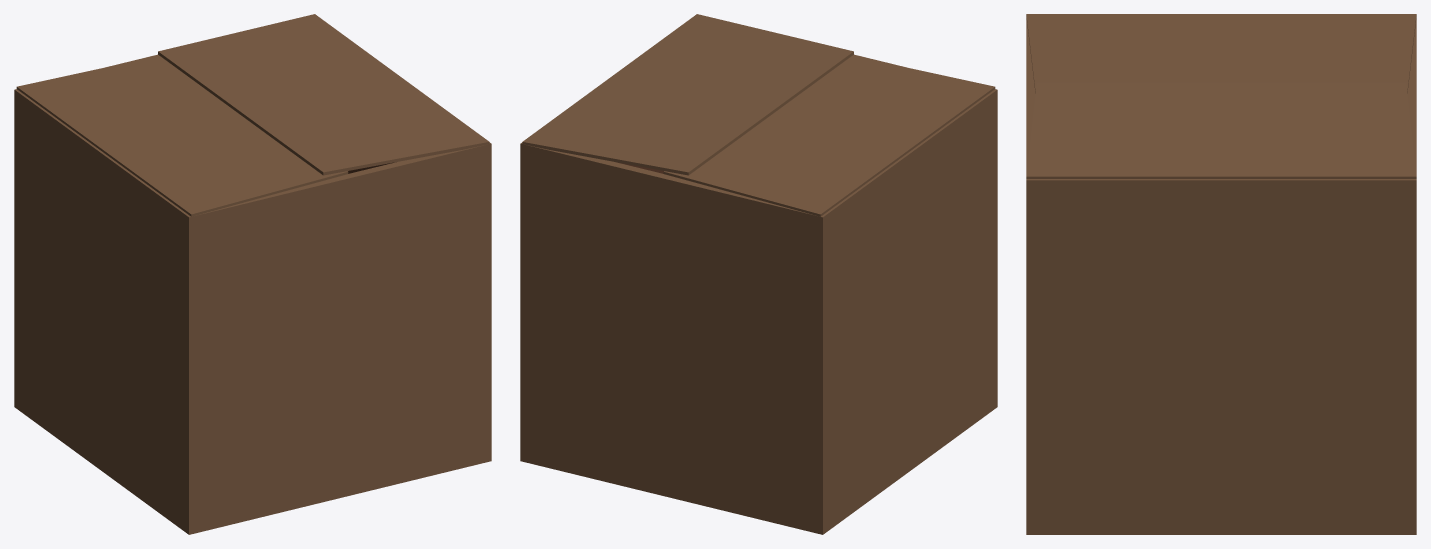
3 renders of one model, left to right at view 1: azimuth 30°, elevation 25°; view 2: azimuth 150°, elevation 25°; view 3: azimuth 270°, elevation 25°, orthographic. The views are drawn at different scales.
Visible parts, largest first — view 1: Box, Box Ac.001, Box Ac; view 2: Box, Box Ac.001, Box Ac; view 3: Box, Box Ac.001, Box Ac.
Part boxes in pixels (left/top/right/bottom): Box: left=14, top=54, right=491, bottom=534; Box Ac.001: left=158, top=14, right=489, bottom=175; Box Ac: left=16, top=55, right=348, bottom=216; Box: left=520, top=54, right=997, bottom=534; Box Ac.001: left=522, top=14, right=853, bottom=175; Box Ac: left=663, top=55, right=995, bottom=216; Box: left=1026, top=17, right=1416, bottom=534; Box Ac.001: left=1026, top=82, right=1416, bottom=178; Box Ac: left=1026, top=14, right=1416, bottom=93.
Bounding box in the file's own units: 0.65 × 0.6678 × 0.65.
2 materials, 2 textured.
